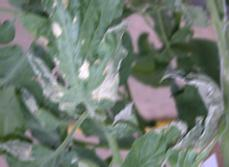Tomato leaf bacterial spot: (20, 0, 128, 116)
